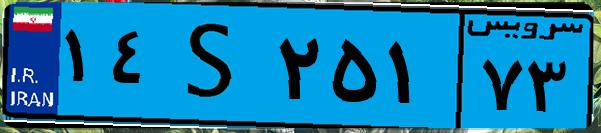1: (385, 28, 445, 110), (57, 26, 110, 100)
2: (270, 28, 330, 110)
3: (525, 38, 570, 115)
4: (110, 28, 158, 98)
5: (330, 28, 385, 110)
7: (475, 38, 525, 113)
S: (158, 12, 270, 120)
